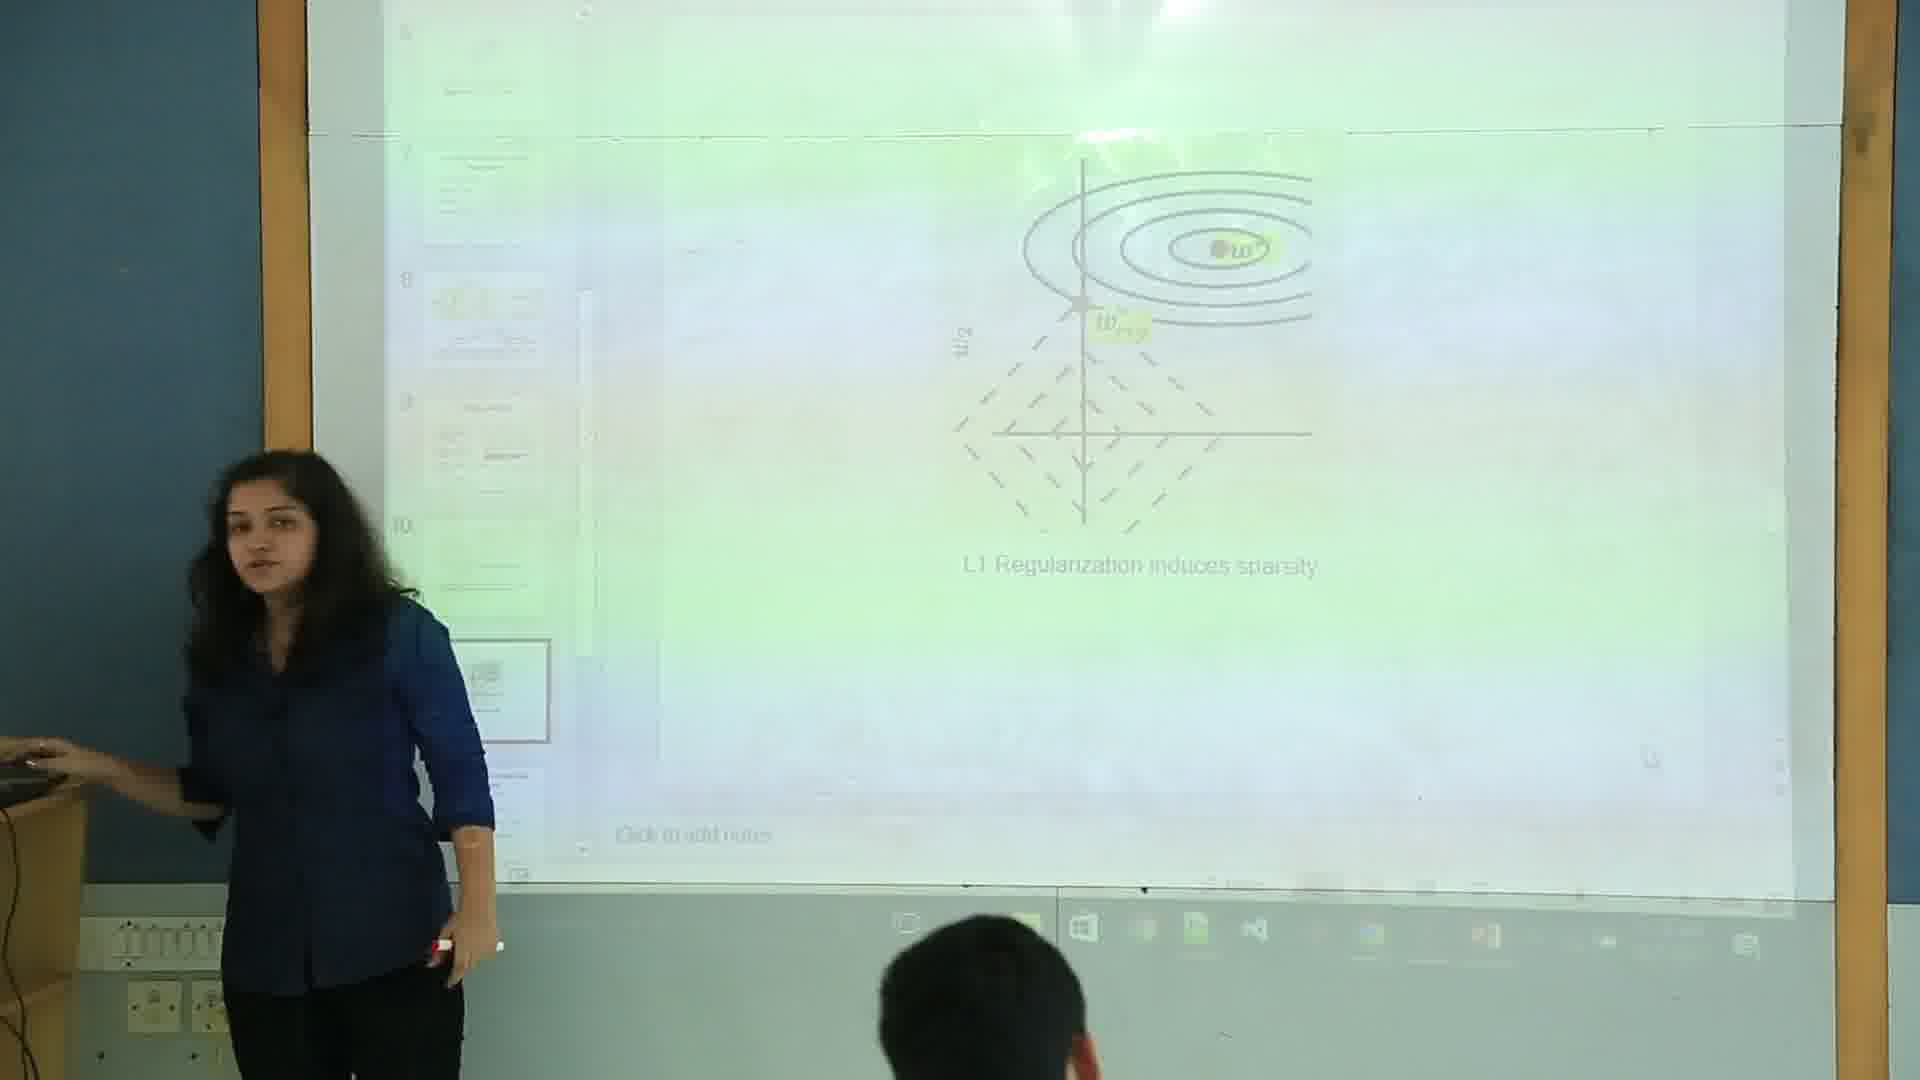slide: (381, 3, 1792, 985)
